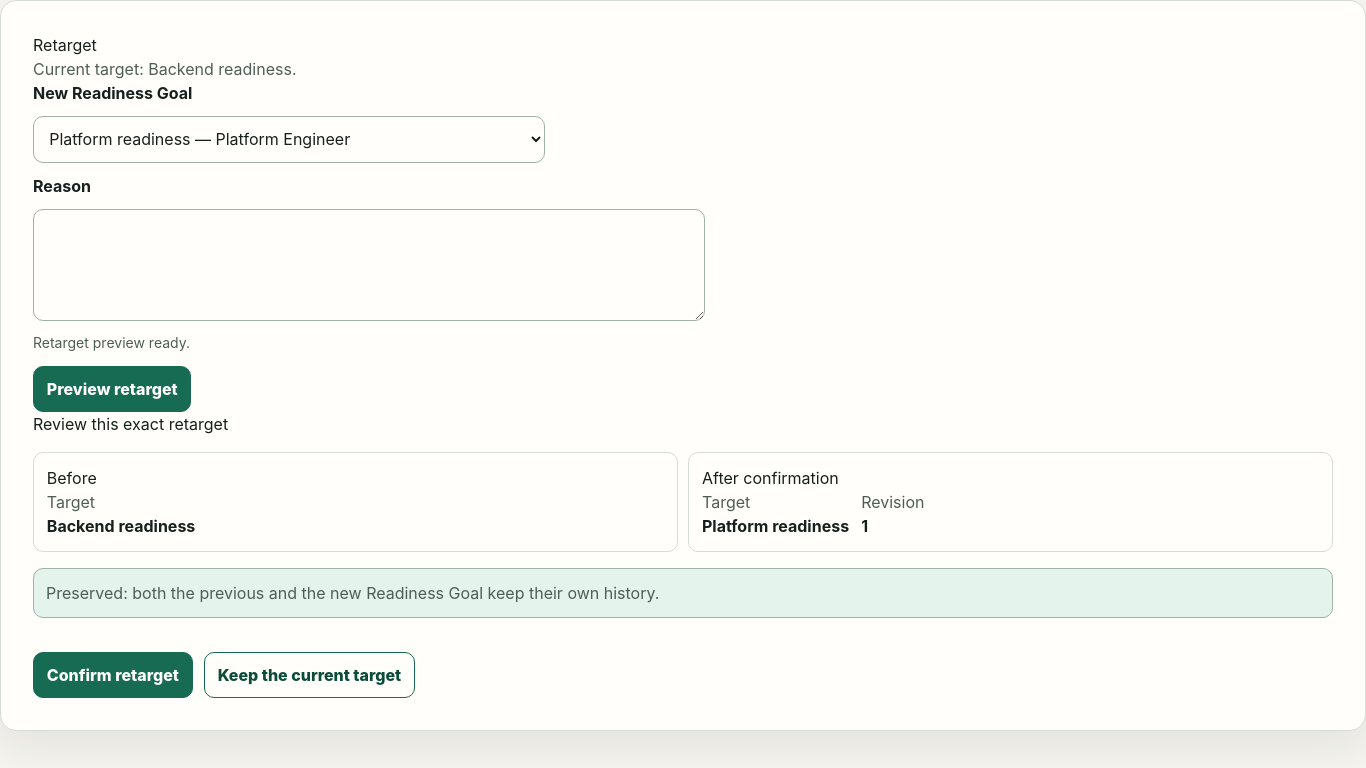
Test: InterviewCampaignRetarget › dismisses a stale confirmation when the selected target changes
This screenshot has width=1366, height=768.
Type "Different reason" into the text box labelled "Reason". click: (369, 265)
box: [33,209,705,321]
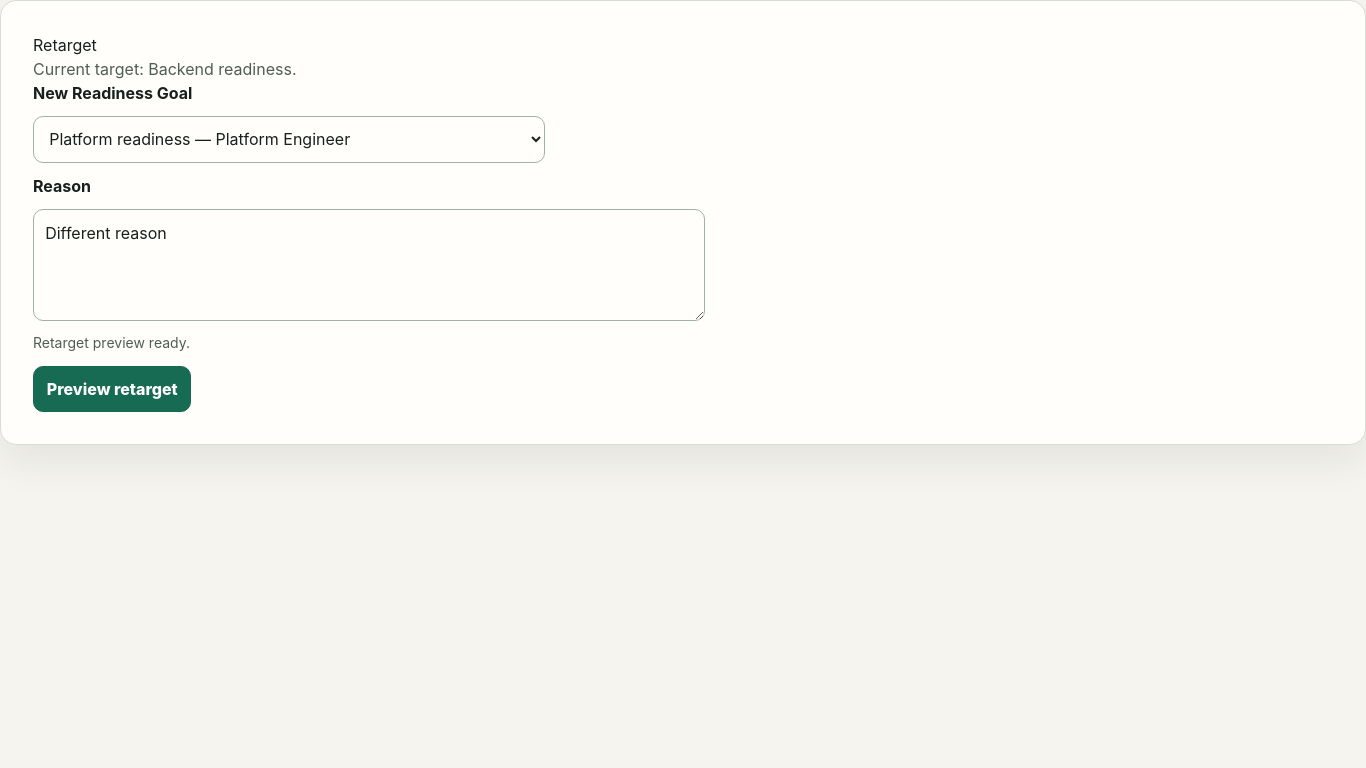
Check: the button "Confirm retarget" is gone
